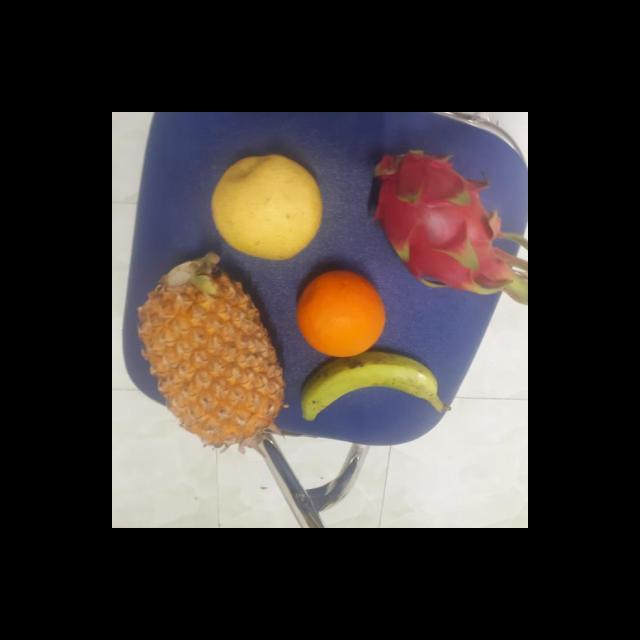Sakya fruit: (294, 270, 388, 358)
banana: (294, 350, 436, 424)
pear: (204, 154, 320, 260)
pineapple: (138, 254, 282, 446)
pitaya: (359, 148, 506, 290)
